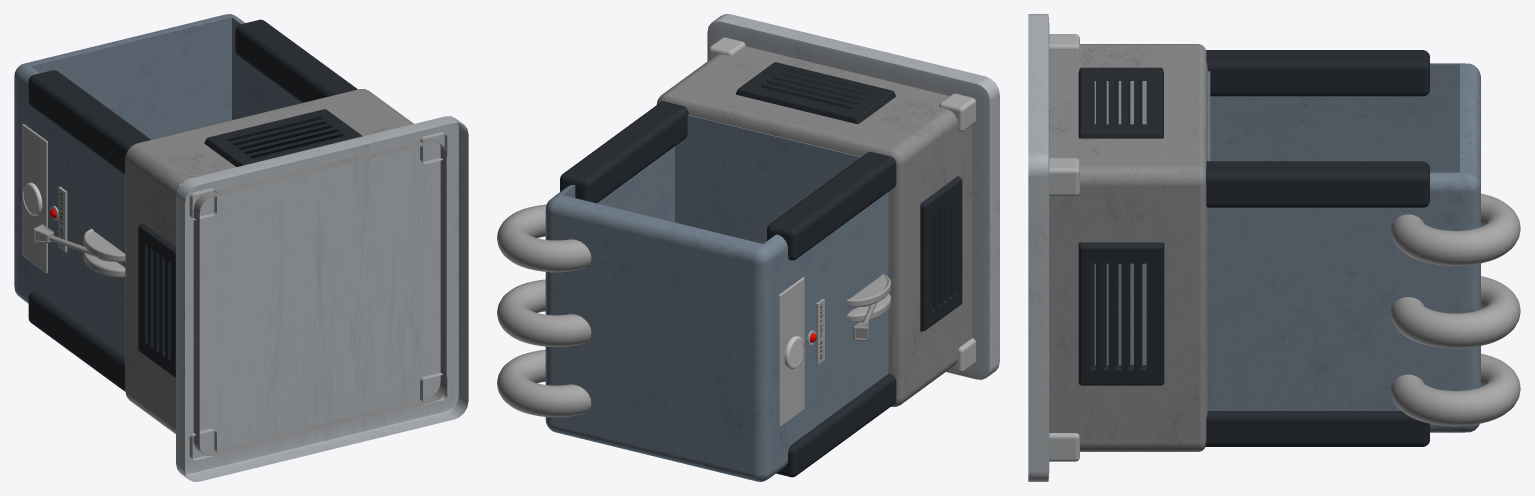
Rendered from quantum-output.obj.
3 views of the same model, side by side, from view 1: azimuth 30°, elevation 25°; view 2: azimuth 150°, elevation 25°; view 3: azimuth 270°, elevation 25° (orthographic). The views are drawn at different scales.
Parts seen in each view (by area): view 1: GatewayBody; view 2: GatewayBody; view 3: GatewayBody.
Part boxes in pixels (x1,y1,x2,y2): GatewayBody: (14, 14, 468, 481); GatewayBody: (497, 14, 999, 481); GatewayBody: (1028, 14, 1520, 481).
Bounding box in the file's own units: 0.6959 × 0.6339 × 0.864.
